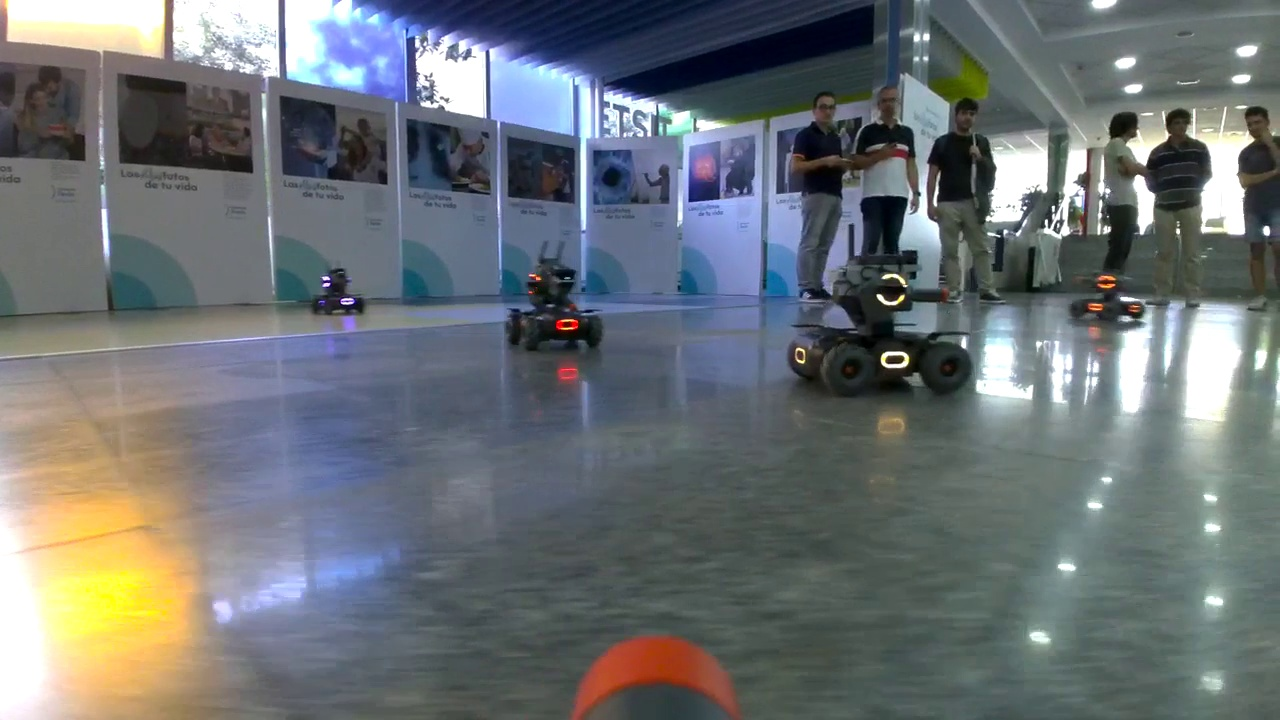robot: (788, 219, 976, 399), (505, 239, 606, 353), (1068, 266, 1146, 328), (315, 265, 363, 323)
